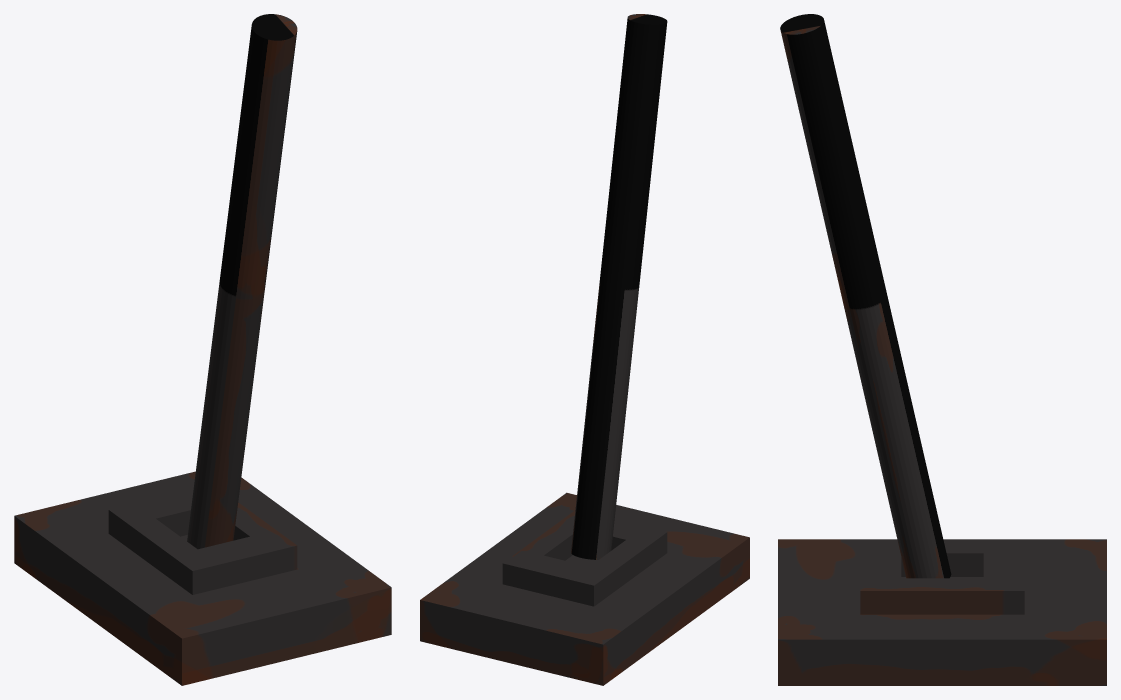
File: lever.fbx
3 views of the same model, side by side, from view 1: azimuth 30°, elevation 25°; view 2: azimuth 150°, elevation 25°; view 3: azimuth 270°, elevation 25° (orthographic). The views are drawn at different scales.
Visible parts, largest first — view 1: Cube, Cylinder; view 2: Cube, Cylinder; view 3: Cube, Cylinder.
Boxes of the visible parts, box(x1,y1,x2,y2) form: Cube: box(14, 471, 391, 685); Cylinder: box(187, 14, 297, 549); Cube: box(420, 492, 749, 685); Cylinder: box(571, 14, 667, 559); Cube: box(778, 539, 1106, 685); Cylinder: box(780, 14, 951, 578).
Size of the model in its own units: 200 by 572 by 277.
